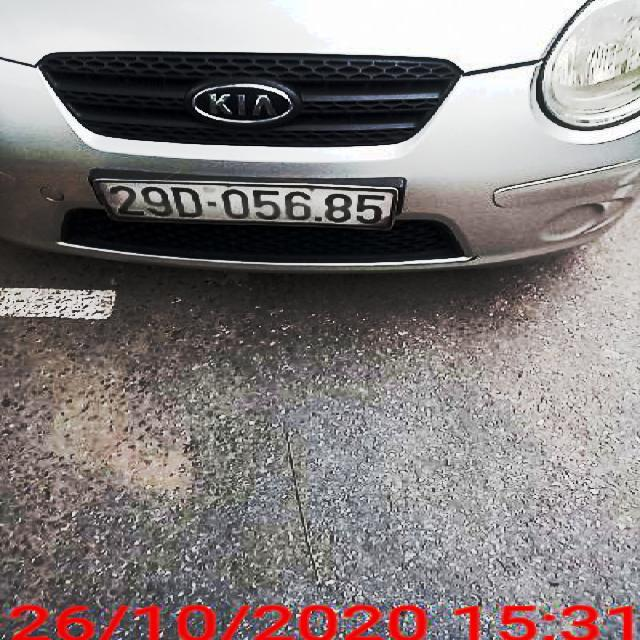license_plate: (95, 177, 403, 232)
